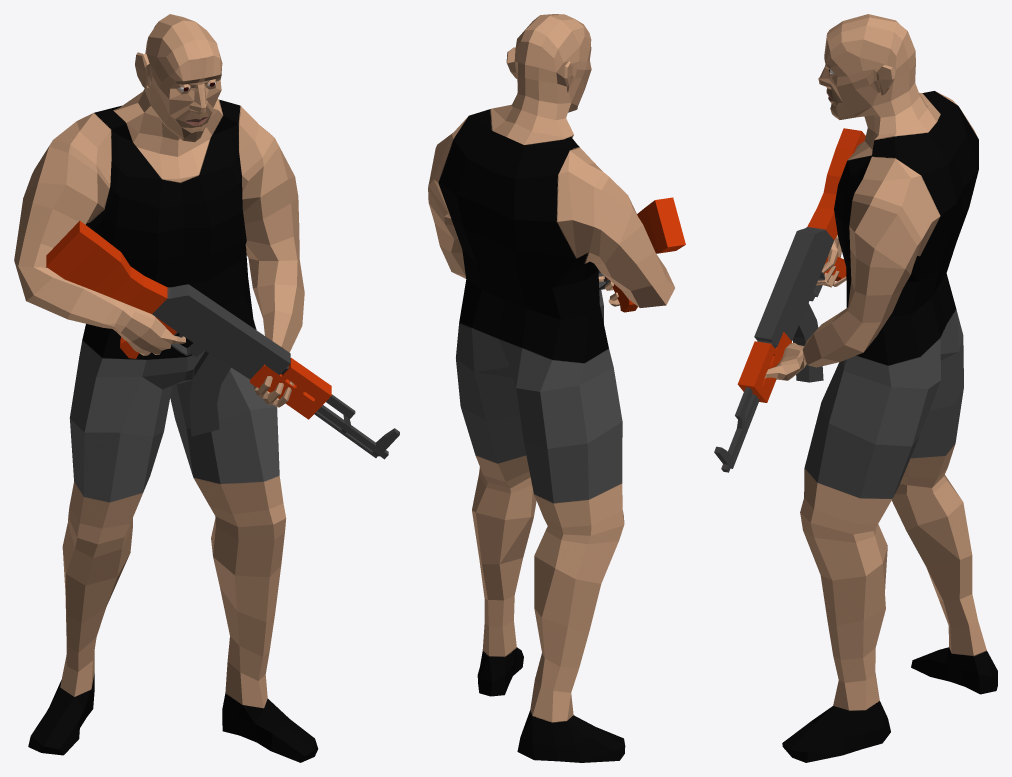
File: PlayerIdle(81).obj
3 views of the same model, side by side, from view 1: azimuth 30°, elevation 25°; view 2: azimuth 150°, elevation 25°; view 3: azimuth 270°, elevation 25° (orthographic). The views are drawn at different scales.
Parts seen in each view (by area): view 1: Plane002, Object001; view 2: Plane002, Object001; view 3: Plane002, Object001.
Boxes of the visible parts, left/top/right/bottom form: Plane002: left=14, top=14, right=318, bottom=762; Object001: left=46, top=221, right=399, bottom=459; Plane002: left=428, top=14, right=674, bottom=762; Object001: left=598, top=197, right=685, bottom=323; Plane002: left=764, top=14, right=997, bottom=762; Object001: left=714, top=128, right=865, bottom=472.
Size of the model in its own units: 729 by 1799 by 663.
